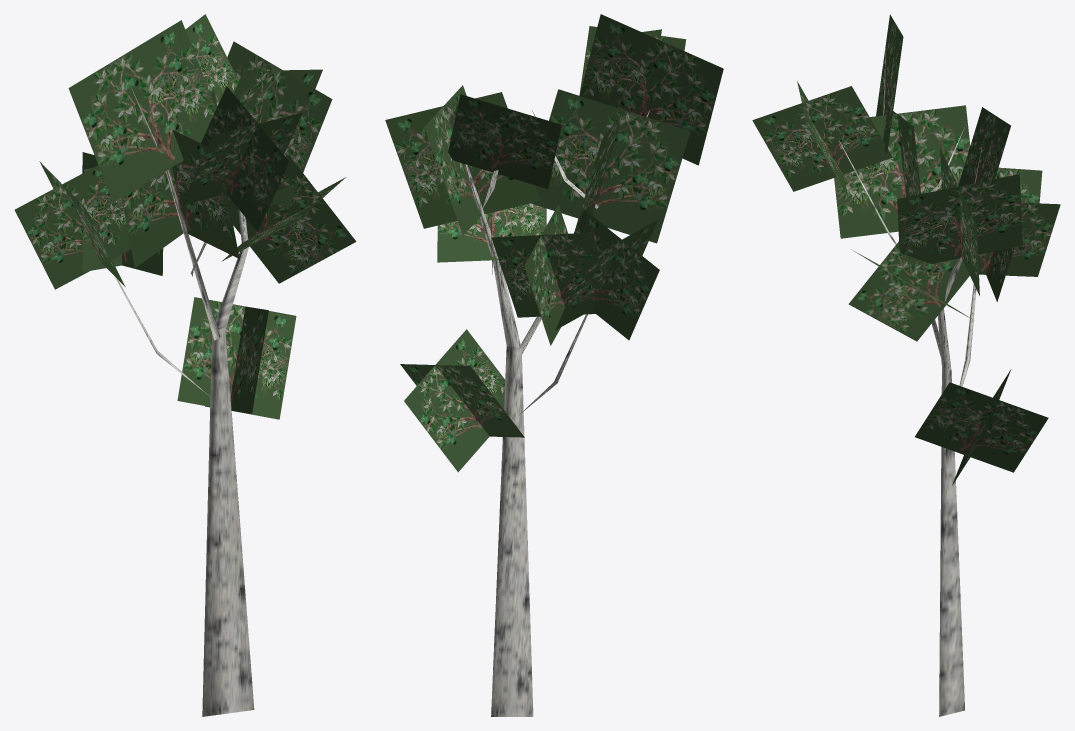
File: decd_whitebirchtreeleaves_a2_l2.fbx
3 views of the same model, side by side, from view 1: azimuth 30°, elevation 25°; view 2: azimuth 150°, elevation 25°; view 3: azimuth 270°, elevation 25° (orthographic). The views are drawn at different scales.
Visible parts, largest first — view 1: mesh_node; view 2: mesh_node; view 3: mesh_node.
Part boxes in pixels (<box>): mesh_node: <box>14,14,356,716</box>; mesh_node: <box>385,14,723,716</box>; mesh_node: <box>752,14,1060,716</box>.
Bounding box in the file's own units: 7.8 × 17.83 × 7.79.
2 materials, 2 textured.
